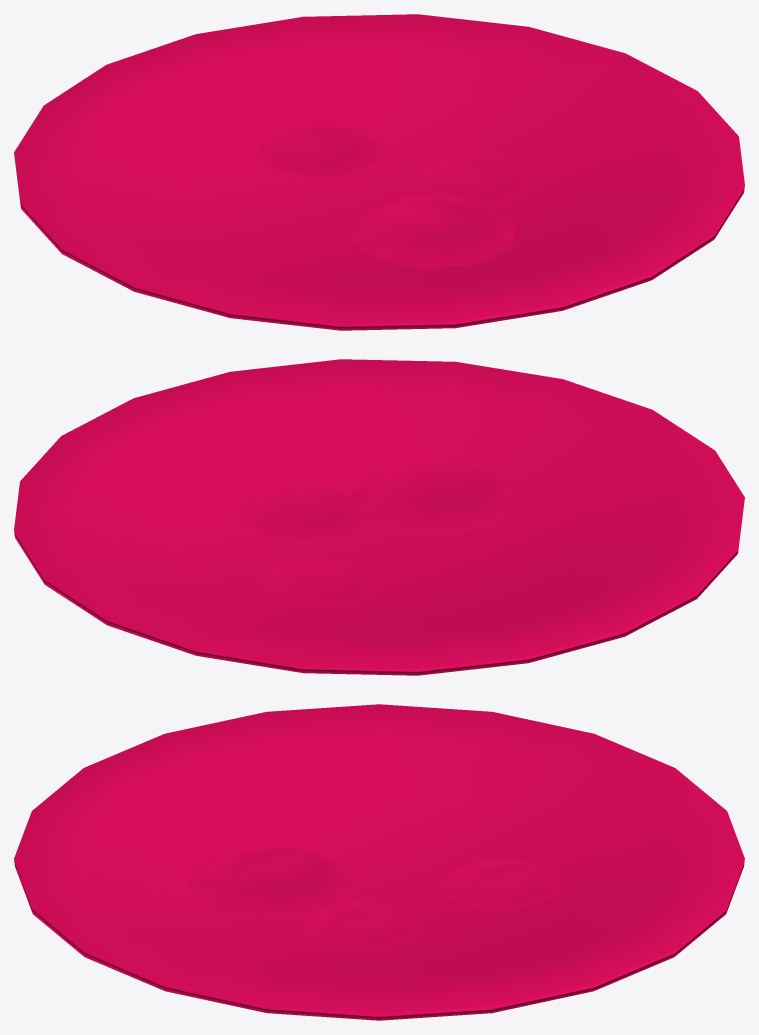
File: Plate_Food_03_Lod0.fbx
3 renders of one model, top to bottom at view 1: azimuth 30°, elevation 25°; view 2: azimuth 150°, elevation 25°; view 3: azimuth 270°, elevation 25°, orthographic.
Visible parts, largest first — view 1: Plate_Food_03_Lod0; view 2: Plate_Food_03_Lod0; view 3: Plate_Food_03_Lod0.
Boxes of the visible parts, x1,y1,x2,y2 form: Plate_Food_03_Lod0: (14,14,744,330); Plate_Food_03_Lod0: (14,359,744,675); Plate_Food_03_Lod0: (14,704,744,1020).
Bounding box in the file's own units: 28.93 × 2.39 × 28.93.
